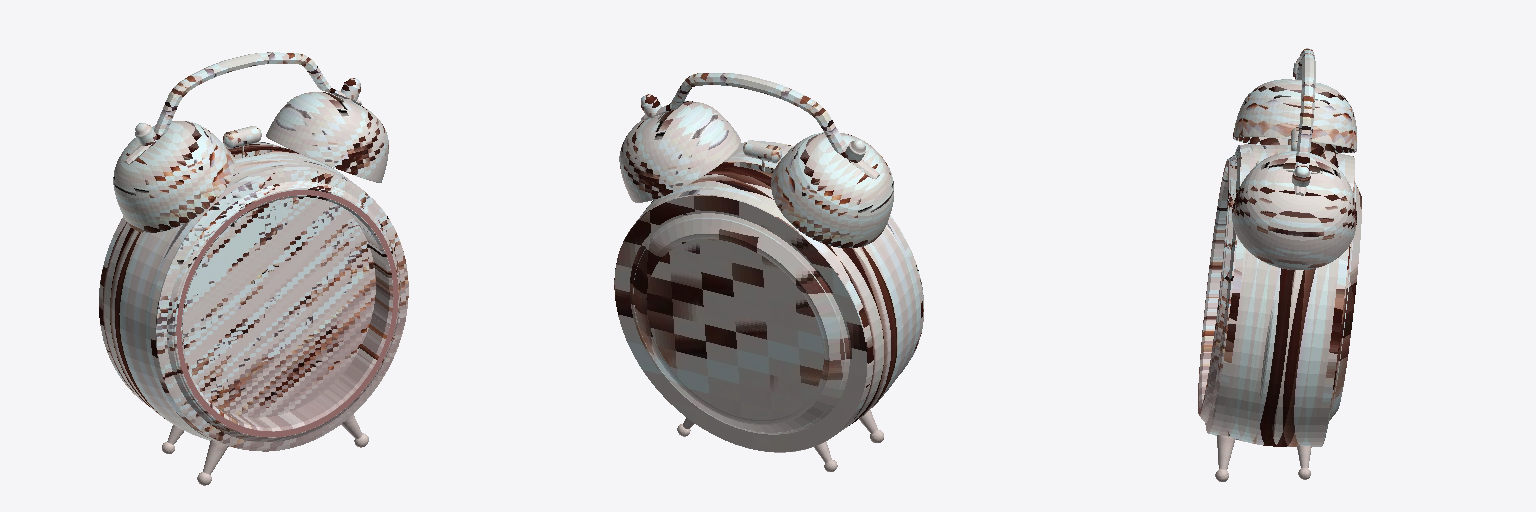
The picture shows the model from 3 angles: view 1: azimuth 30°, elevation 25°; view 2: azimuth 150°, elevation 25°; view 3: azimuth 270°, elevation 25°; orthographic projection.
Visible parts, largest first — view 1: Material.002; view 2: Material.002; view 3: Material.002.
Part boxes in pixels (x1,y1,x2,y2): Material.002: (99, 52, 408, 485); Material.002: (614, 73, 923, 471); Material.002: (1198, 48, 1361, 481).
Size of the model in its own units: 122 by 165 by 65.27.
1 materials, 1 textured.